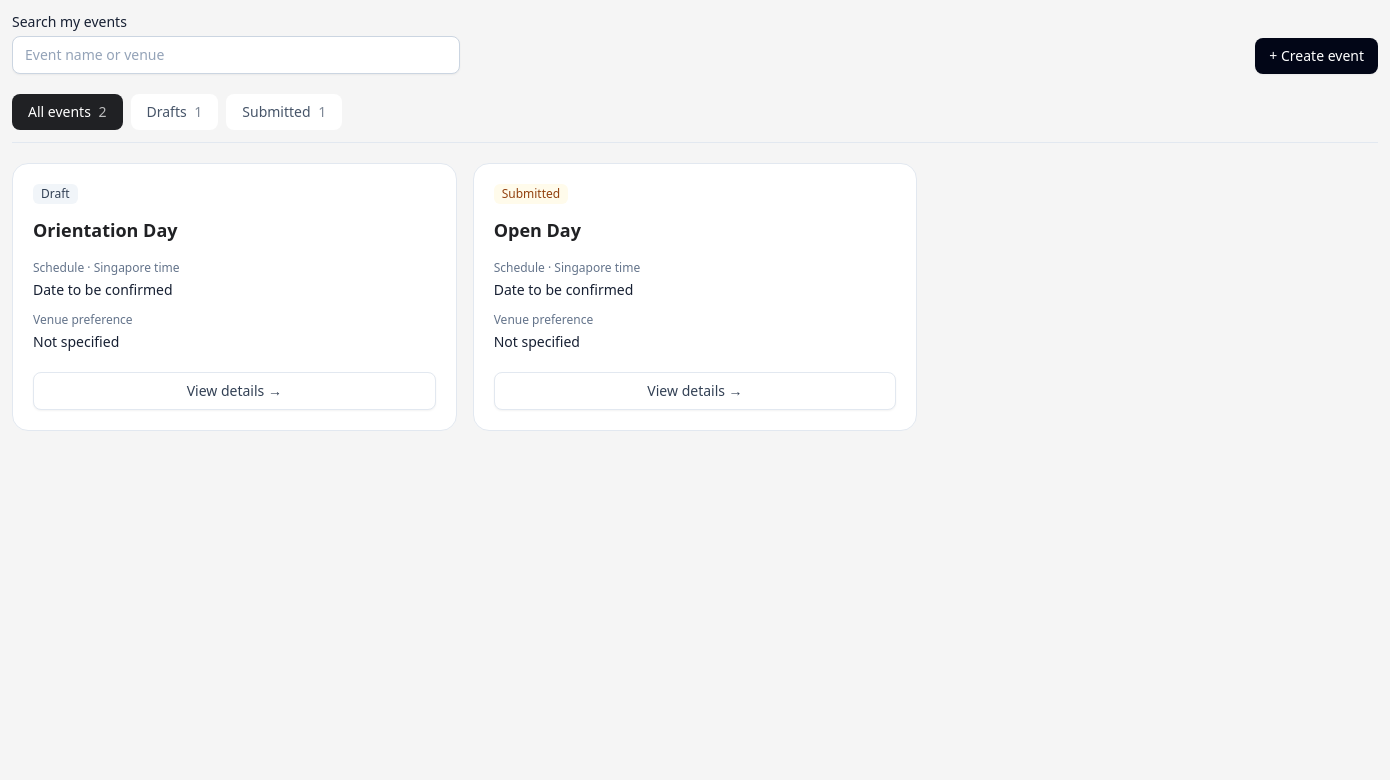
Test: SCRUM-105 owner views assignment history (frontend unit) › a submitted row offers the toggle, a draft row does not, and nothing loads until opened
Click the button with aria-label "View details for Orientation Day": (234, 391) [33,372,436,410]
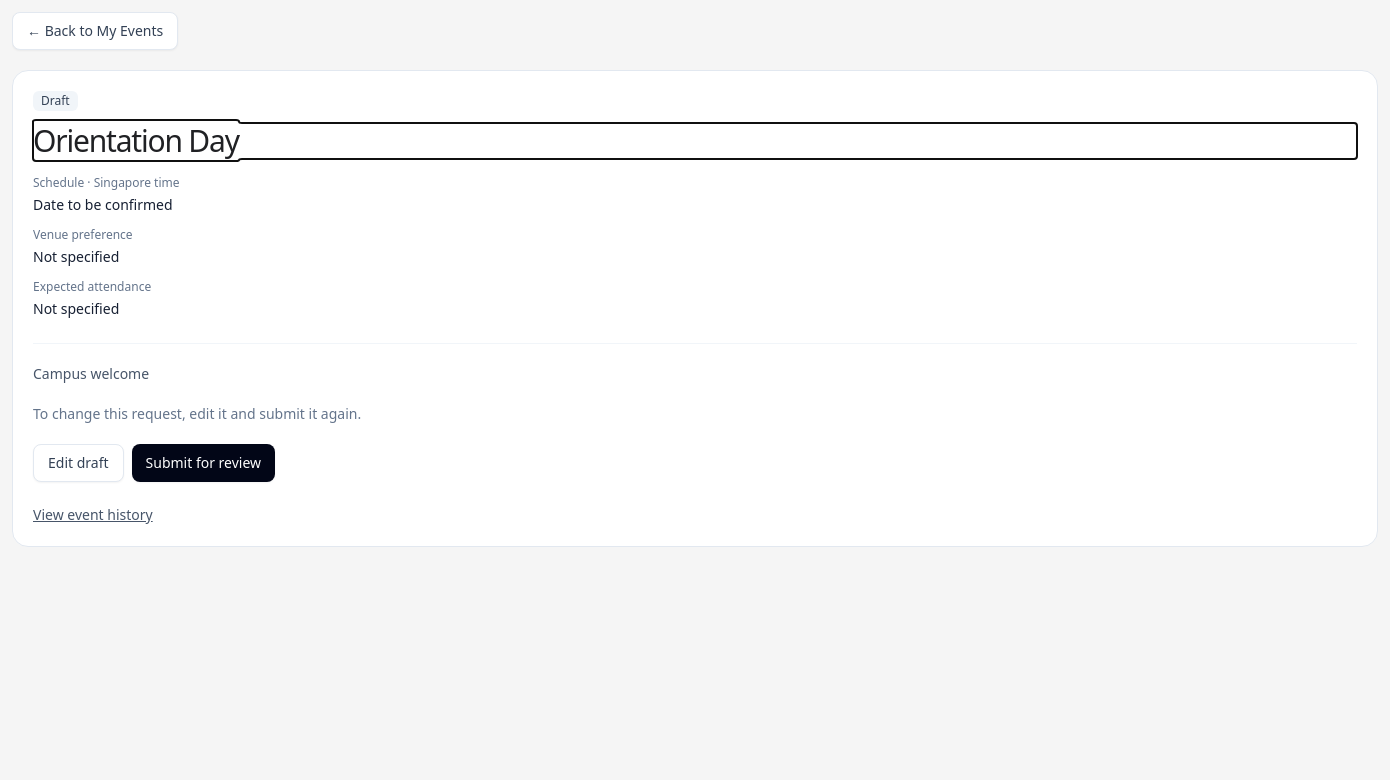
Check: the button "View assignment history" is not shown
Click the button "← Back to My Events": (95, 31) [12,12,178,50]
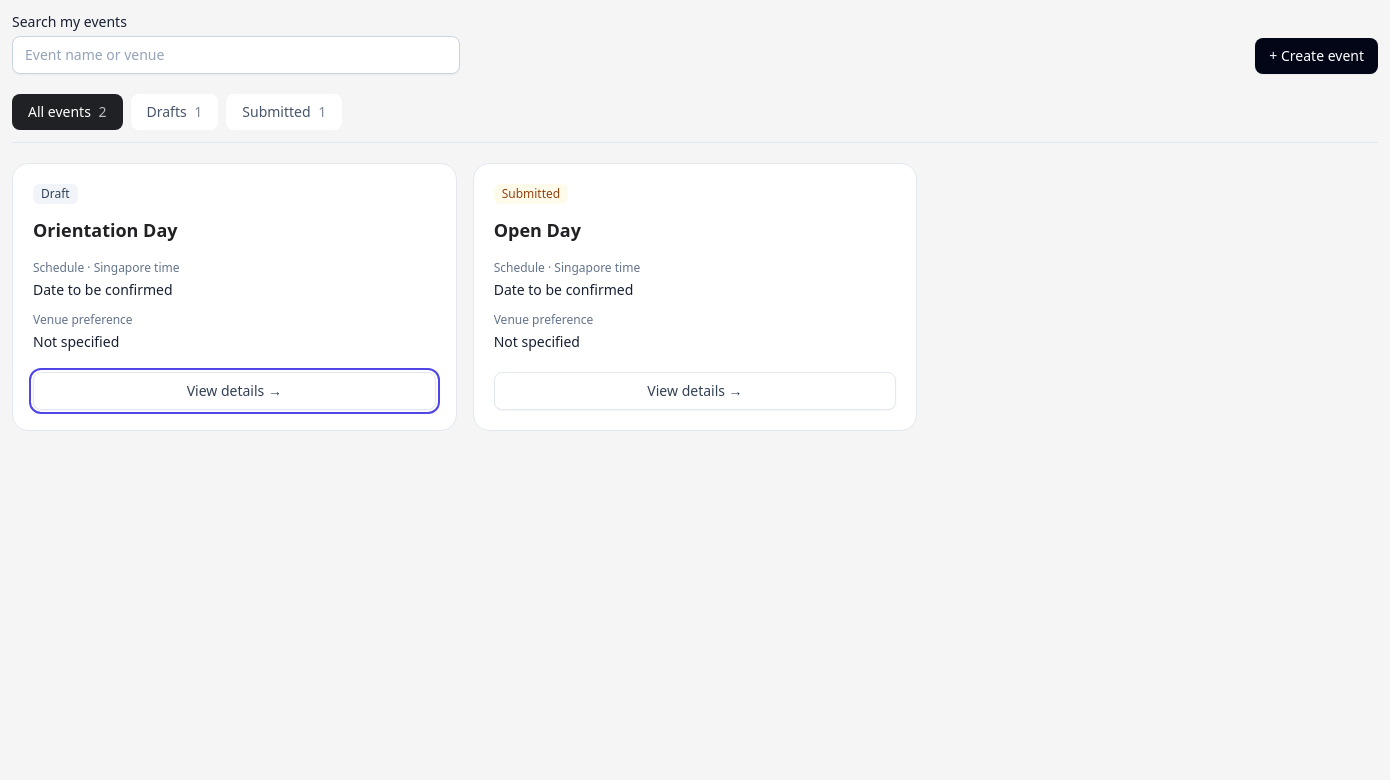
Click the button "View details →" below "Open Day": (695, 391) [494,372,896,410]
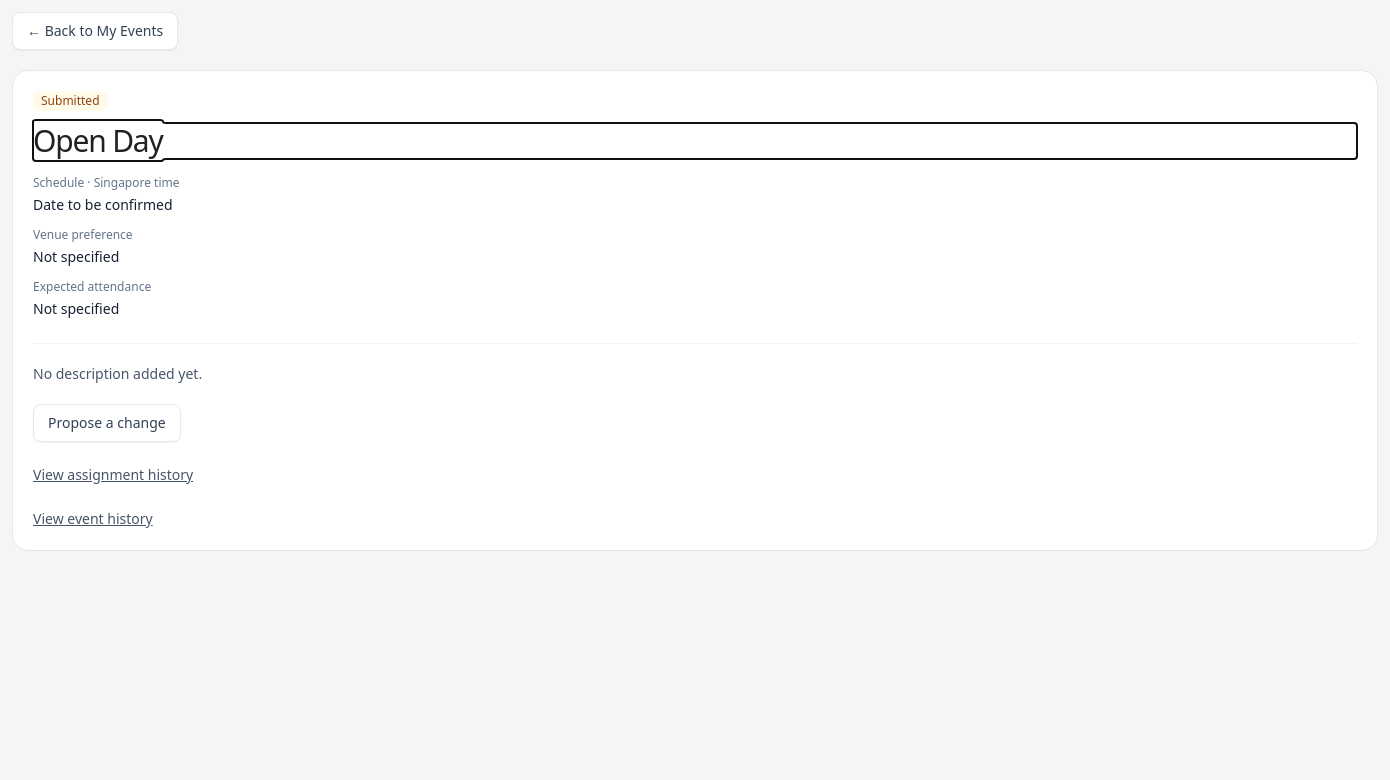
Click the button "View assignment history": (113, 475) [33,465,193,485]
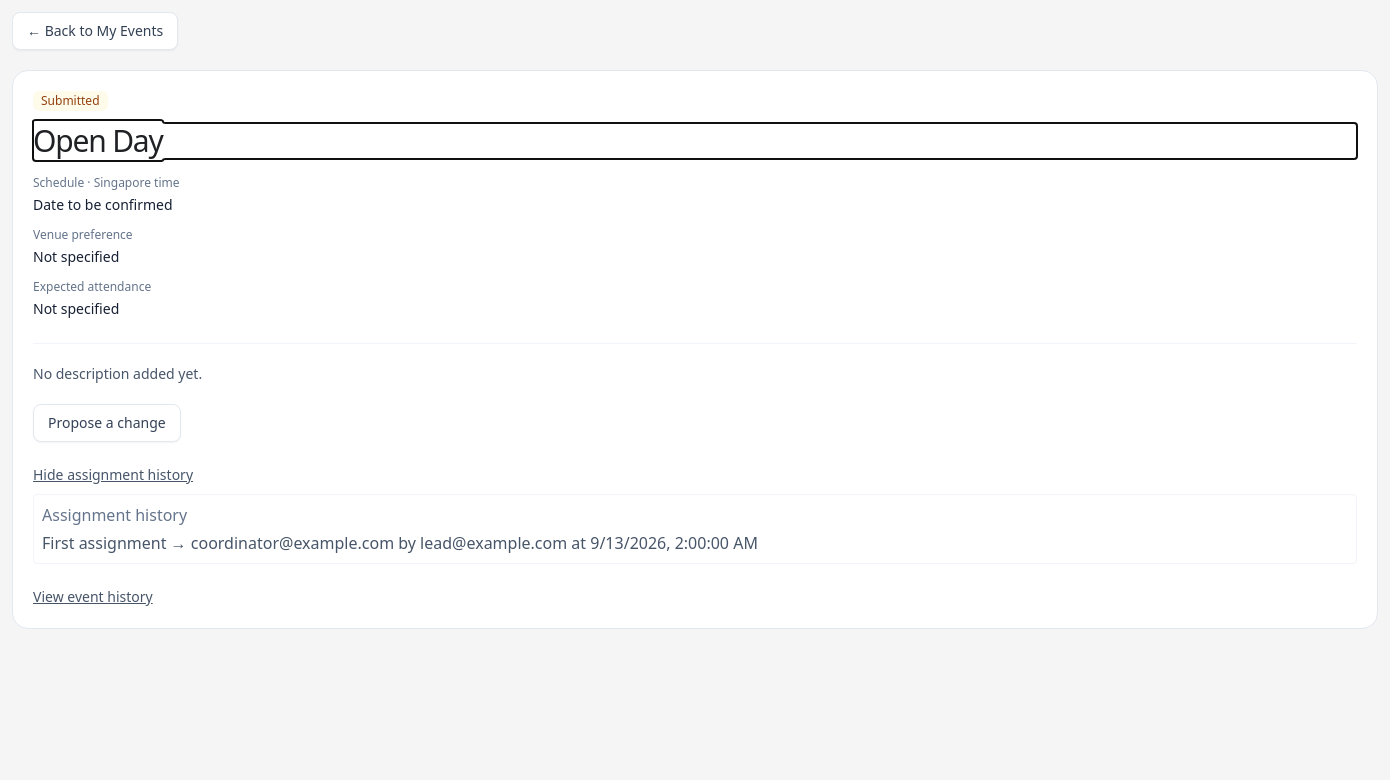
Check: the list item "First assignment → coordinator@example.com" shows "by lead@example.com", box [42,532,758,554]
